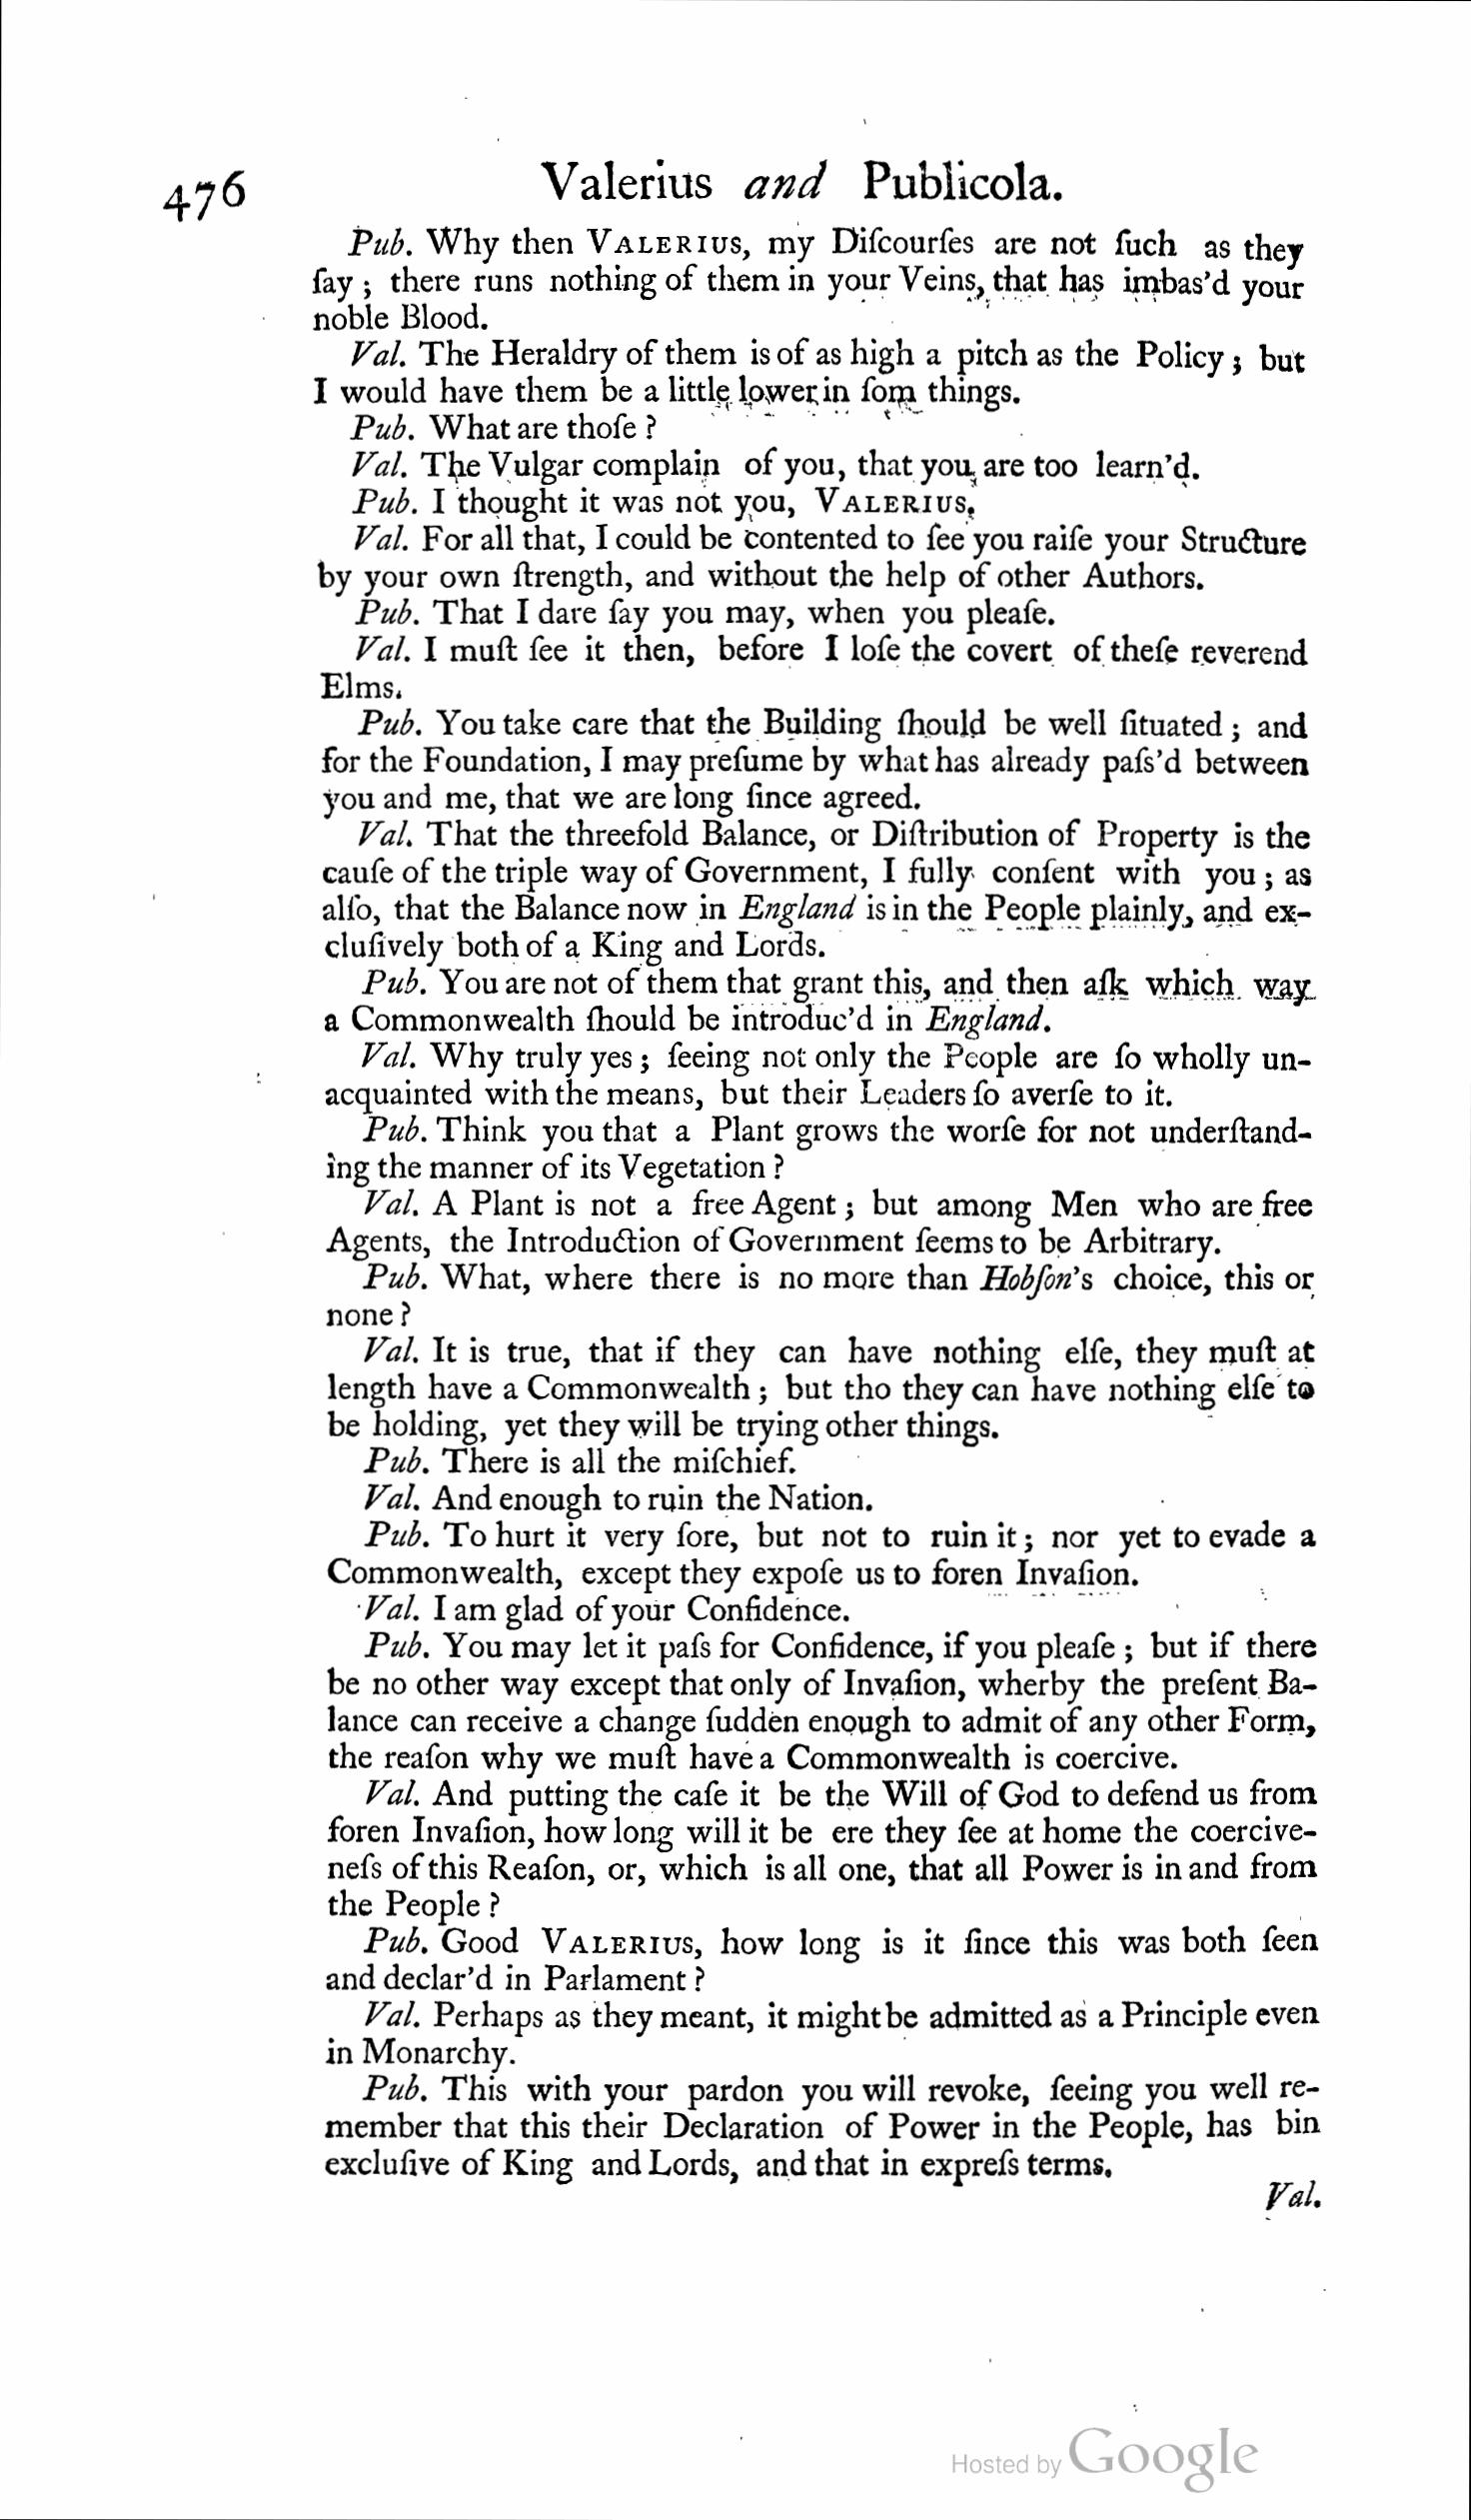catchword: (1259, 2175, 1320, 2217)
full_p: (320, 1623, 1326, 1776), (313, 818, 1317, 968), (320, 1772, 1324, 1919), (313, 2068, 1317, 2191), (306, 219, 1310, 338), (322, 1331, 1320, 1450), (313, 700, 1319, 818), (317, 1914, 1320, 1998), (319, 1107, 1315, 1191), (306, 333, 1312, 413), (310, 963, 1315, 1044), (317, 1187, 1317, 1266), (317, 629, 1312, 704), (313, 1259, 1322, 1333), (319, 1996, 1320, 2070), (320, 1520, 1317, 1594), (312, 1037, 1315, 1109), (312, 520, 1308, 592), (347, 450, 1210, 487), (348, 592, 1063, 636), (343, 487, 988, 525), (355, 1476, 877, 1520), (352, 1592, 855, 1630), (357, 1445, 800, 1476), (347, 410, 658, 448), (348, 413, 350, 415)
header: (536, 152, 1066, 207)
page_num: (163, 159, 249, 226)
